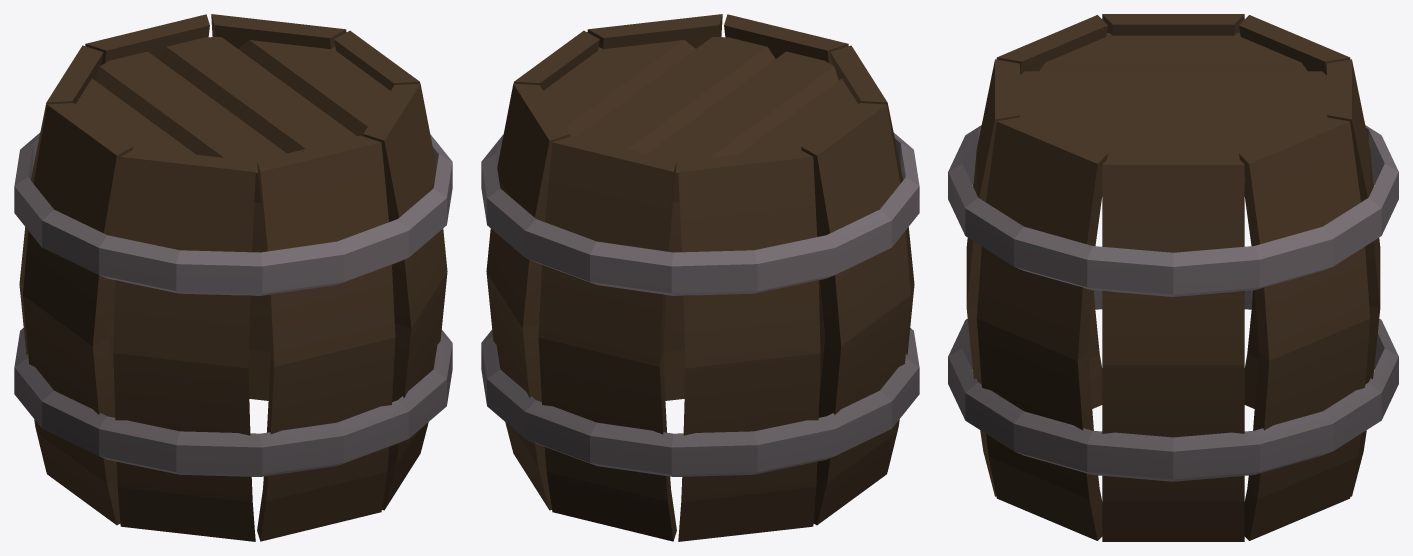
The model's file is barrel.glb.
3 renders of one model, left to right at view 1: azimuth 30°, elevation 25°; view 2: azimuth 150°, elevation 25°; view 3: azimuth 270°, elevation 25°, orthographic.
Bounding box in the file's own units: 0.7147 × 0.6599 × 0.7147.
